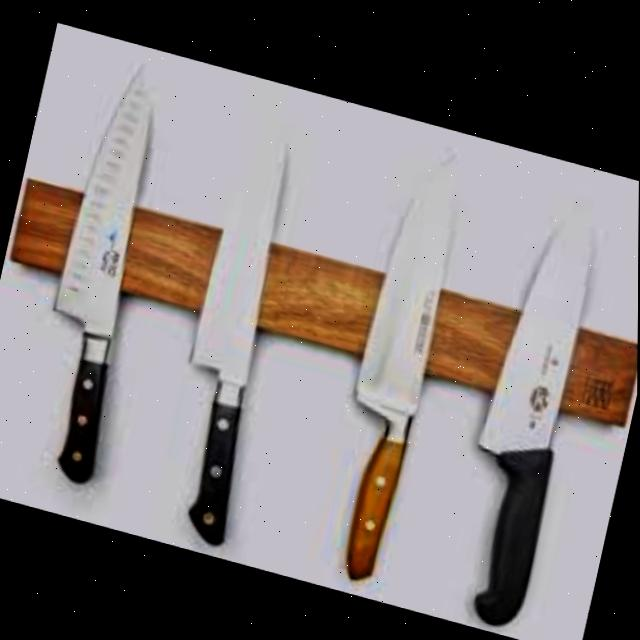knife: (440, 187, 609, 629), (314, 126, 474, 585), (16, 46, 180, 487), (150, 118, 309, 546)
